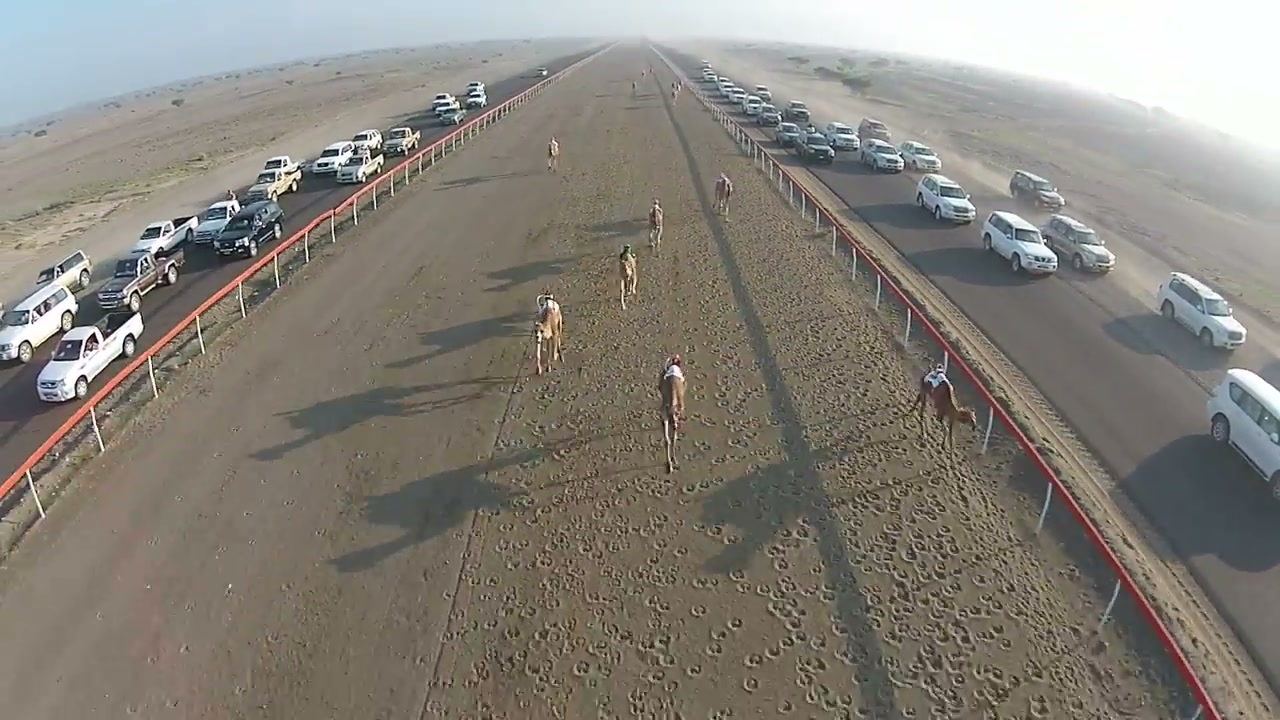animal_footprint: (691, 226, 1060, 709), (480, 378, 569, 693), (635, 455, 729, 704)
